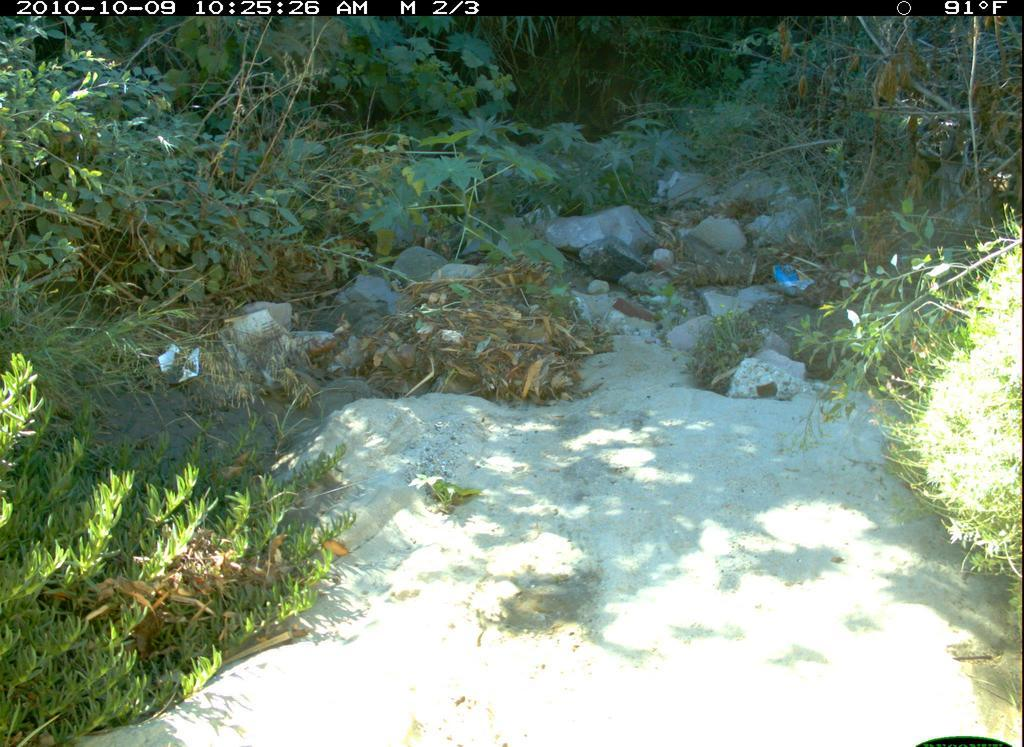squirrel: (491, 559, 610, 641)
